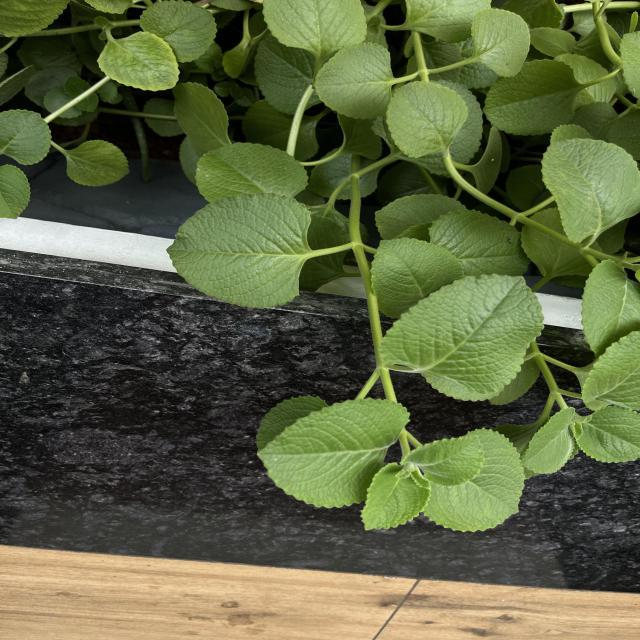Plectranthus barbatus: (378, 273, 544, 394), (254, 396, 412, 510), (165, 192, 312, 310), (422, 428, 528, 535), (539, 137, 640, 245), (368, 236, 466, 320), (482, 58, 580, 138), (193, 141, 310, 206), (385, 80, 469, 160), (312, 42, 393, 122), (136, 0, 217, 65), (96, 30, 180, 92), (359, 461, 432, 532), (398, 432, 484, 488), (468, 7, 532, 80), (520, 406, 576, 476), (579, 406, 640, 466), (64, 139, 131, 188), (0, 108, 52, 166)
